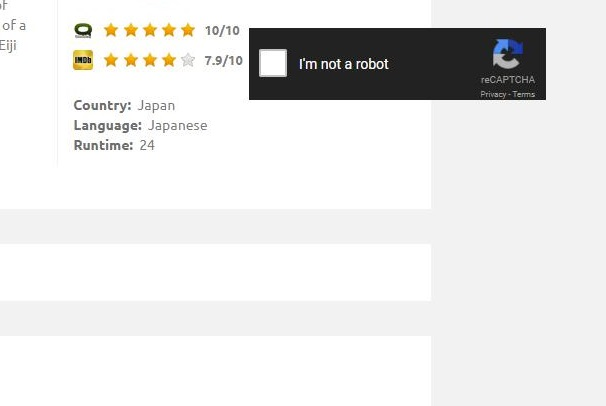captcha: (258, 47, 393, 76)
